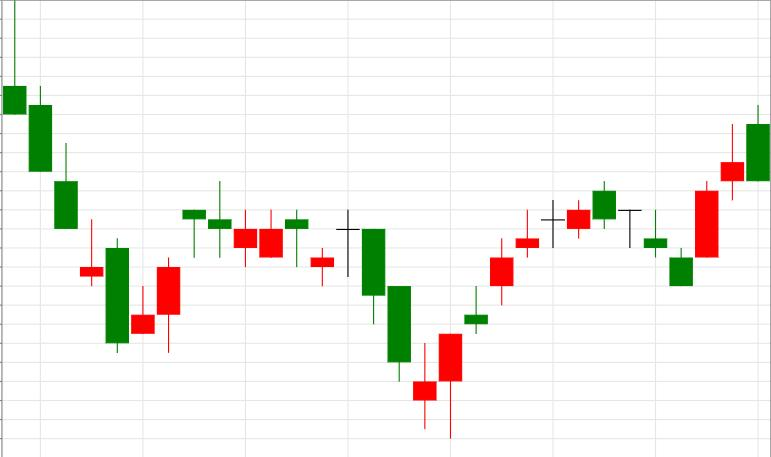evening_star_fall: (336, 211, 462, 440)
